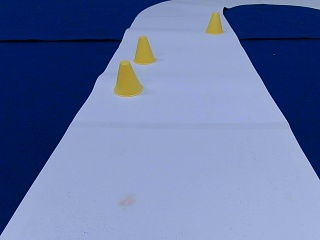cone: (113, 61, 143, 96), (133, 37, 155, 64), (206, 12, 223, 34)
